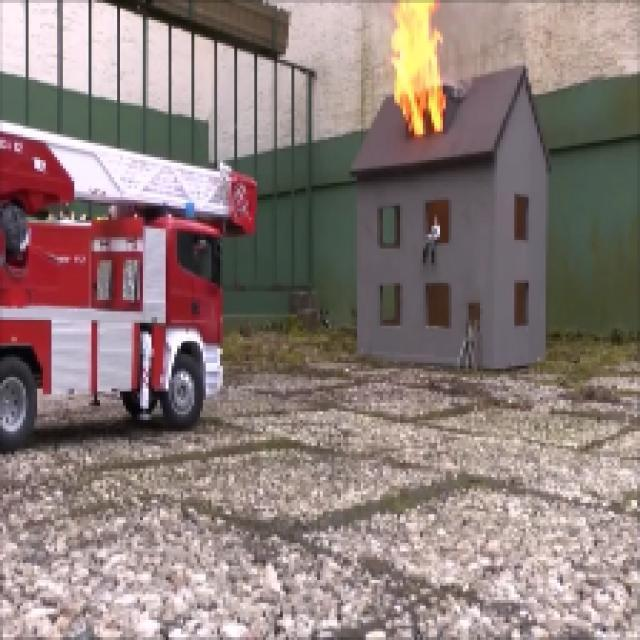Fire: (380, 16, 444, 129)
